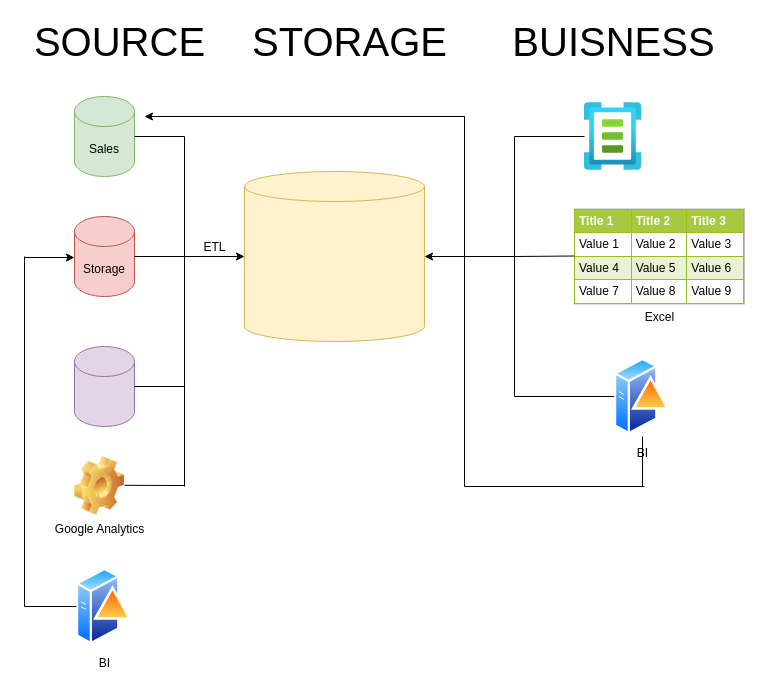
Some shapes in this 762 by 687 pixel diagram are drawn without their labels. Here are the shapes that lost their labels. From the top down, the box of each, then its label:
(584, 102, 641, 170): SQL
(244, 170, 424, 342): Data Warehouse
(74, 346, 134, 426): CRM
